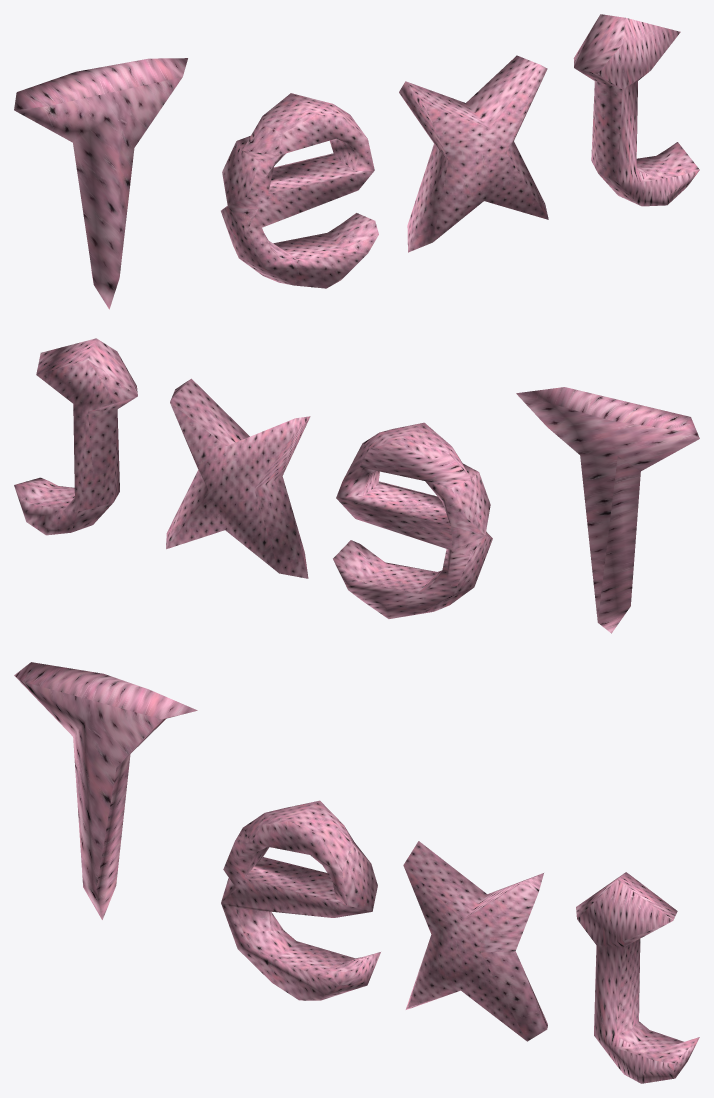
The picture shows the model from 3 angles, top to bottom: view 1: azimuth 30°, elevation 25°; view 2: azimuth 150°, elevation 25°; view 3: azimuth 330°, elevation 25°; orthographic projection.
Parts seen in each view (by area): view 1: e, t, x, t lowercase; view 2: e, t, x, t lowercase; view 3: e, x, t, t lowercase.
Boxes of the visible parts, bbox=[...] form: e: bbox=[221, 93, 378, 288]; t: bbox=[14, 58, 187, 309]; x: bbox=[399, 55, 548, 252]; t lowercase: bbox=[573, 14, 699, 206]; e: bbox=[333, 422, 492, 618]; t: bbox=[516, 387, 699, 633]; x: bbox=[166, 378, 310, 578]; t lowercase: bbox=[14, 338, 137, 535]; e: bbox=[221, 800, 380, 1000]; x: bbox=[403, 841, 547, 1041]; t: bbox=[14, 662, 197, 919]; t lowercase: bbox=[576, 872, 699, 1083].
Size of the model in its own units: 1.85 by 0.6824 by 0.1417.
Materials: 1 (1 with a texture image).
